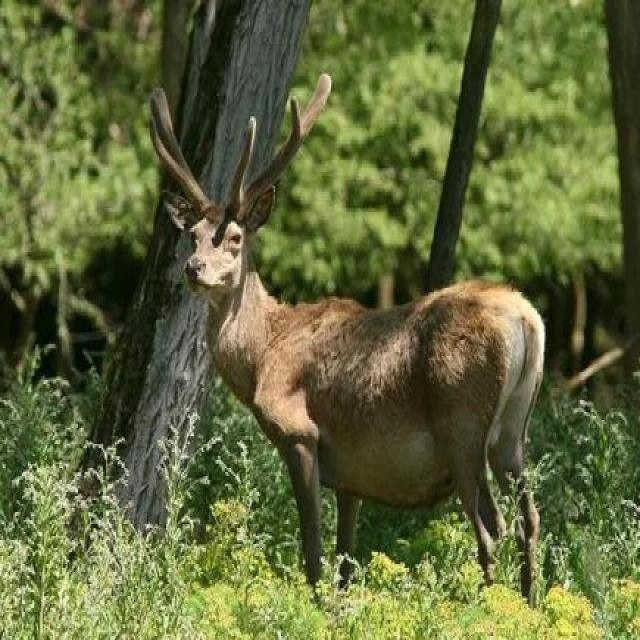deer: (115, 70, 615, 639)
